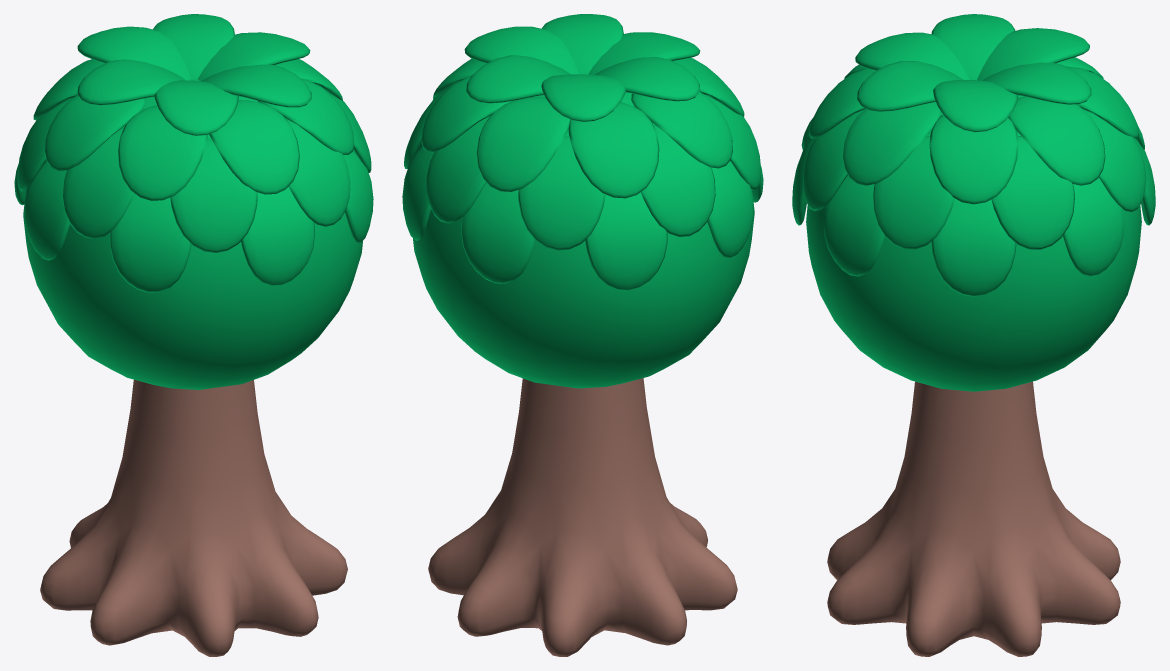
File: Farm_15_Tree_1.glb
3 views of the same model, side by side, from view 1: azimuth 30°, elevation 25°; view 2: azimuth 150°, elevation 25°; view 3: azimuth 270°, elevation 25° (orthographic).
Parts seen in each view (by area): view 1: Farm_15_Tree_1; view 2: Farm_15_Tree_1; view 3: Farm_15_Tree_1.
Part boxes in pixels (box(x1,y1,x2,y2)): Farm_15_Tree_1: box(14, 14, 373, 656); Farm_15_Tree_1: box(402, 14, 763, 656); Farm_15_Tree_1: box(792, 14, 1155, 656).
Size of the model in its own units: 4.3 by 7.12 by 4.3.
Materials: 1 (1 with a texture image).
